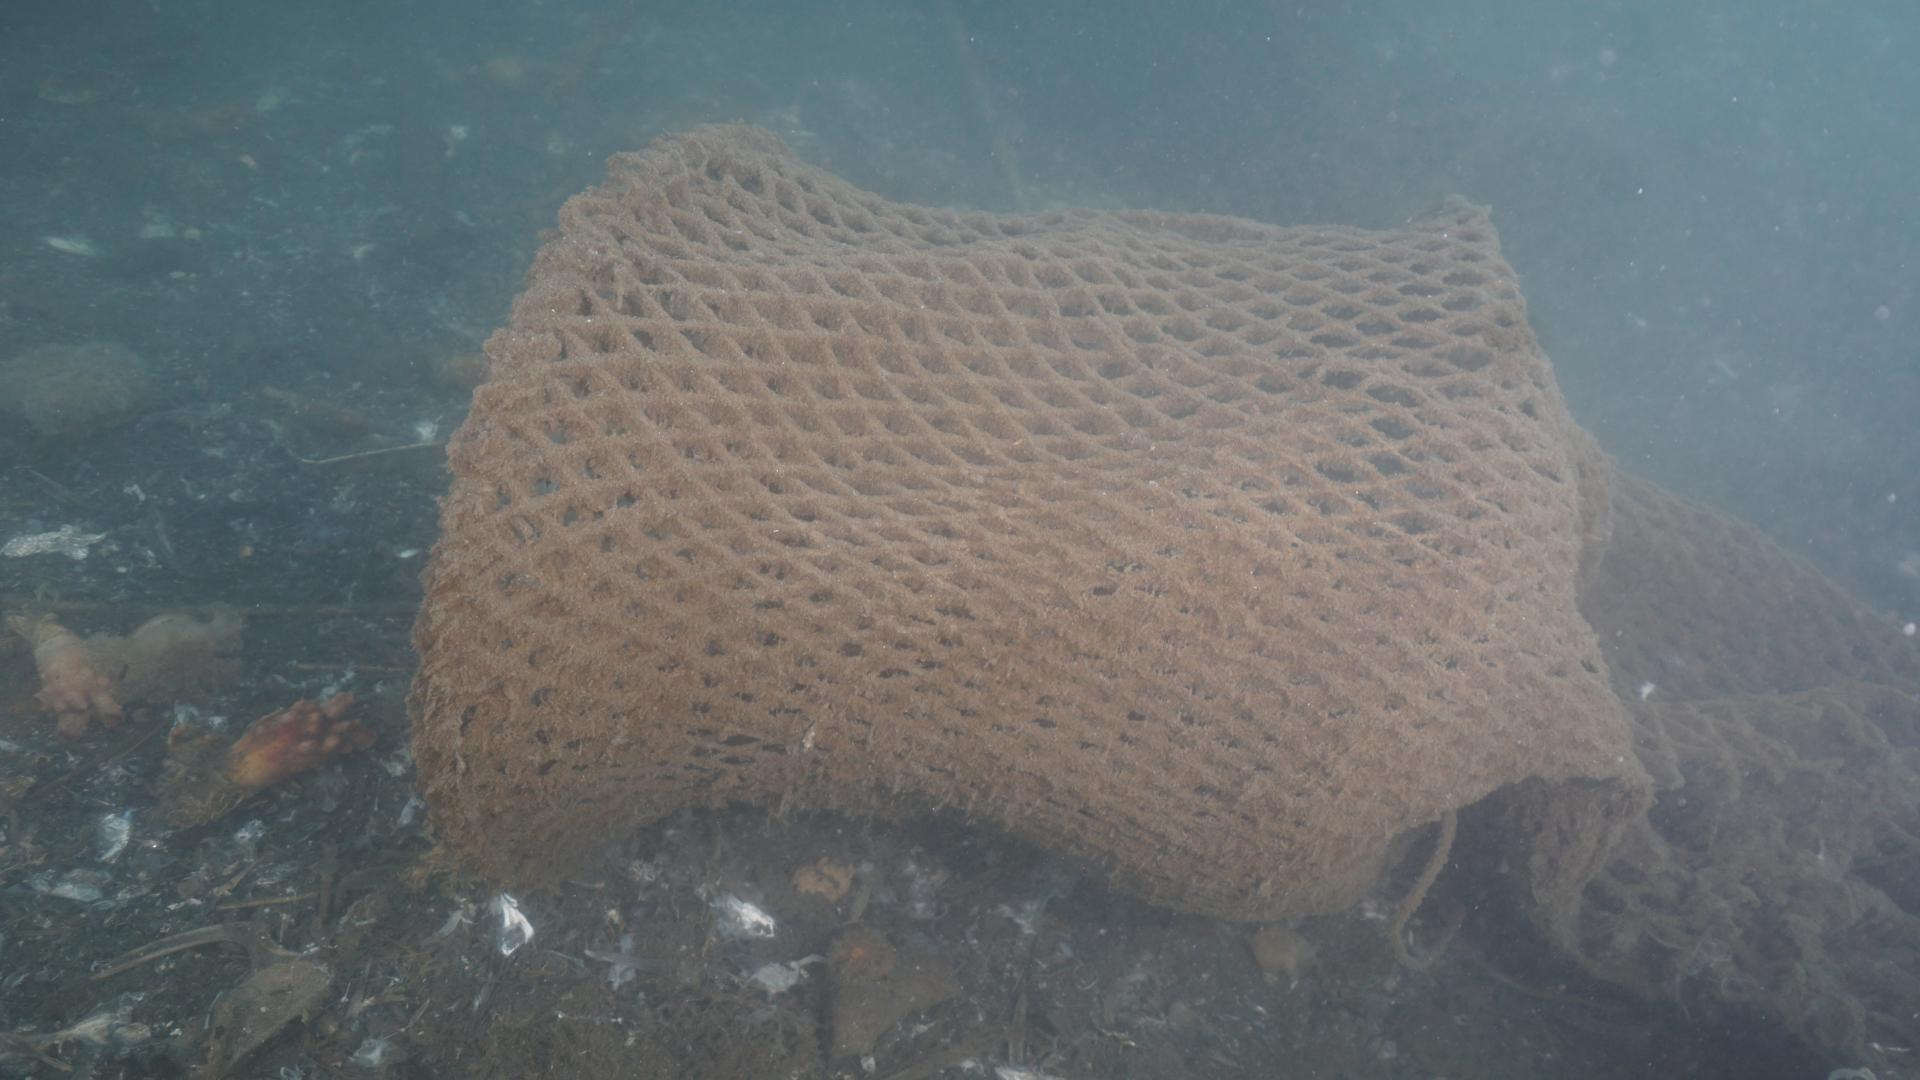spring fish trap: (388, 128, 1920, 1039)
